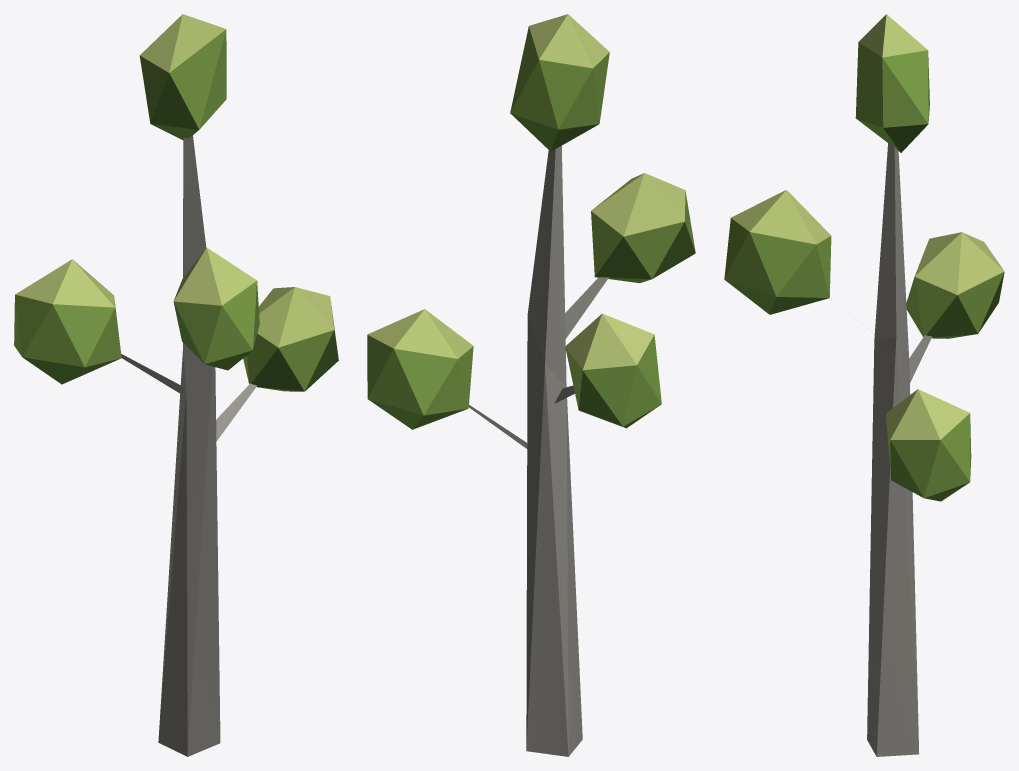
3 renders of one model, left to right at view 1: azimuth 30°, elevation 25°; view 2: azimuth 150°, elevation 25°; view 3: azimuth 270°, elevation 25°, orthographic.
Parts seen in each view (by area): view 1: WK_Tree_Birch_FreshSlender_LOD2_Compact; view 2: WK_Tree_Birch_FreshSlender_LOD2_Compact; view 3: WK_Tree_Birch_FreshSlender_LOD2_Compact.
Part boxes in pixels (left/top/right/bottom): WK_Tree_Birch_FreshSlender_LOD2_Compact: left=14, top=14, right=338, bottom=756; WK_Tree_Birch_FreshSlender_LOD2_Compact: left=367, top=14, right=695, bottom=756; WK_Tree_Birch_FreshSlender_LOD2_Compact: left=724, top=14, right=1004, bottom=756.
Size of the model in its own units: 3.22 by 7.46 by 2.6.
